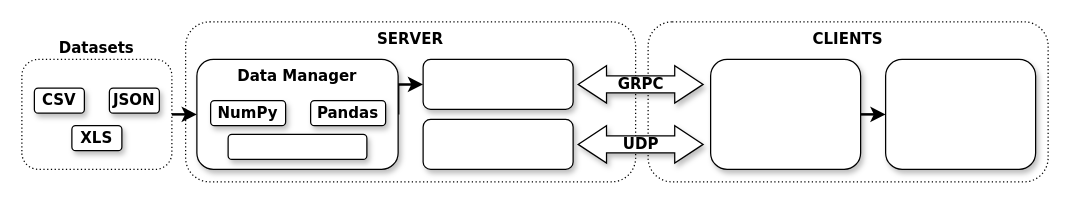
The diagram is 1070 pixels wide and 204 high, and some of its shapes have lost their labels. Here are the shapes that lost their labels. From the top down, the centre of each, then its label:
point 499,85: Data Services
point 786,115: Client Libraries
point 961,115: Visualisation Applications
point 298,148: scikit-learn
point 499,145: Discovery Service
